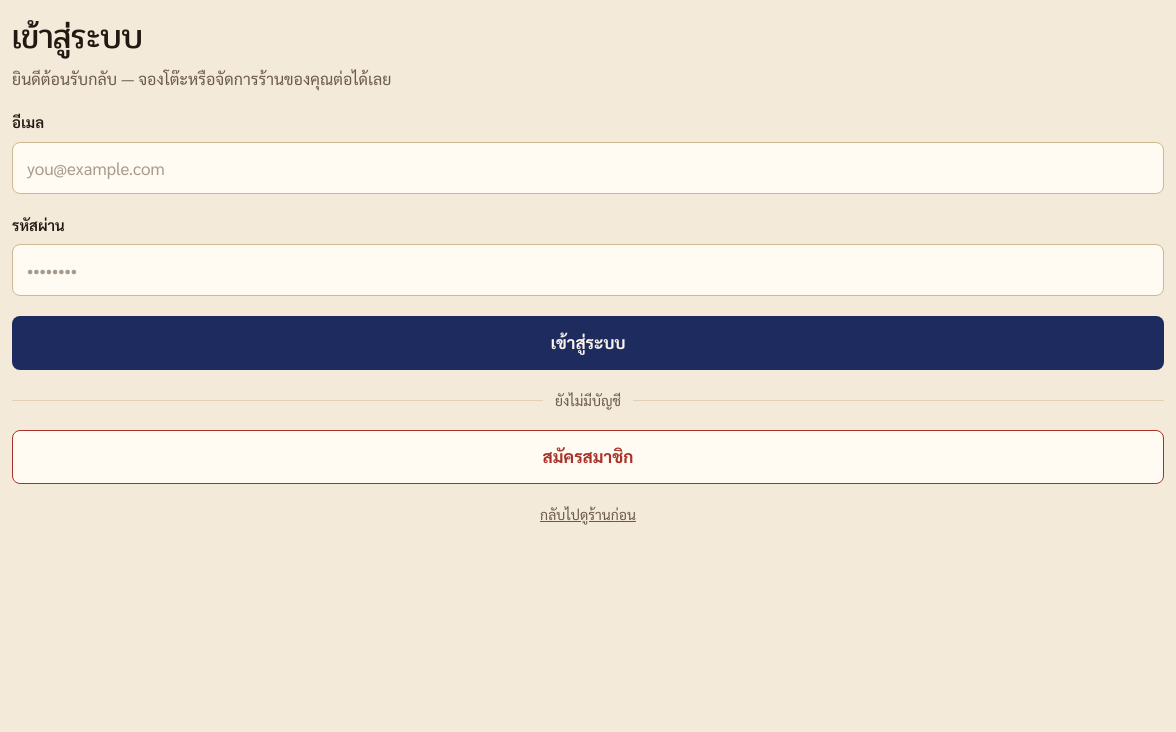
Test case: LoginForm › รหัสผิด → ข้อความรวม ไม่บอกว่าช่องไหนผิด
This screenshot has width=1176, height=732.
Step 1. Type "usr2@email.com" into the field labelled "อีเมล" → (588, 168), box [12,142,1164,194]
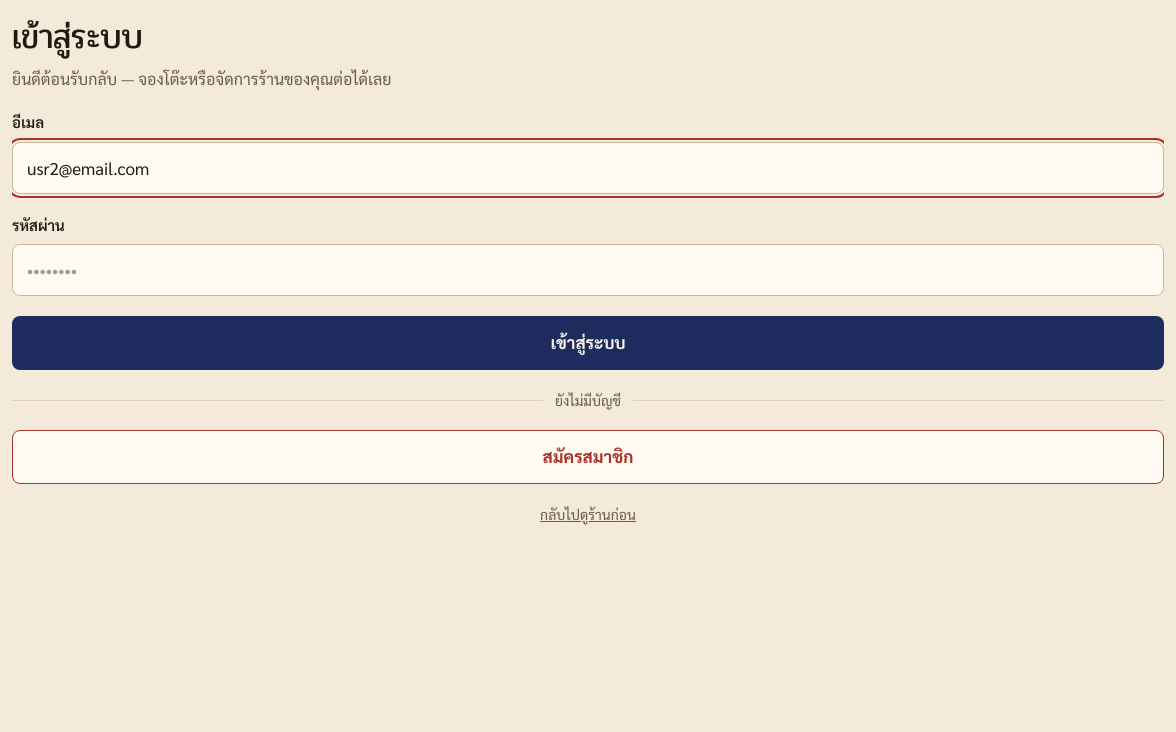
Step 2. Type "wrong" into the password field labelled "รหัสผ่าน" → (588, 270), box [12,244,1164,296]
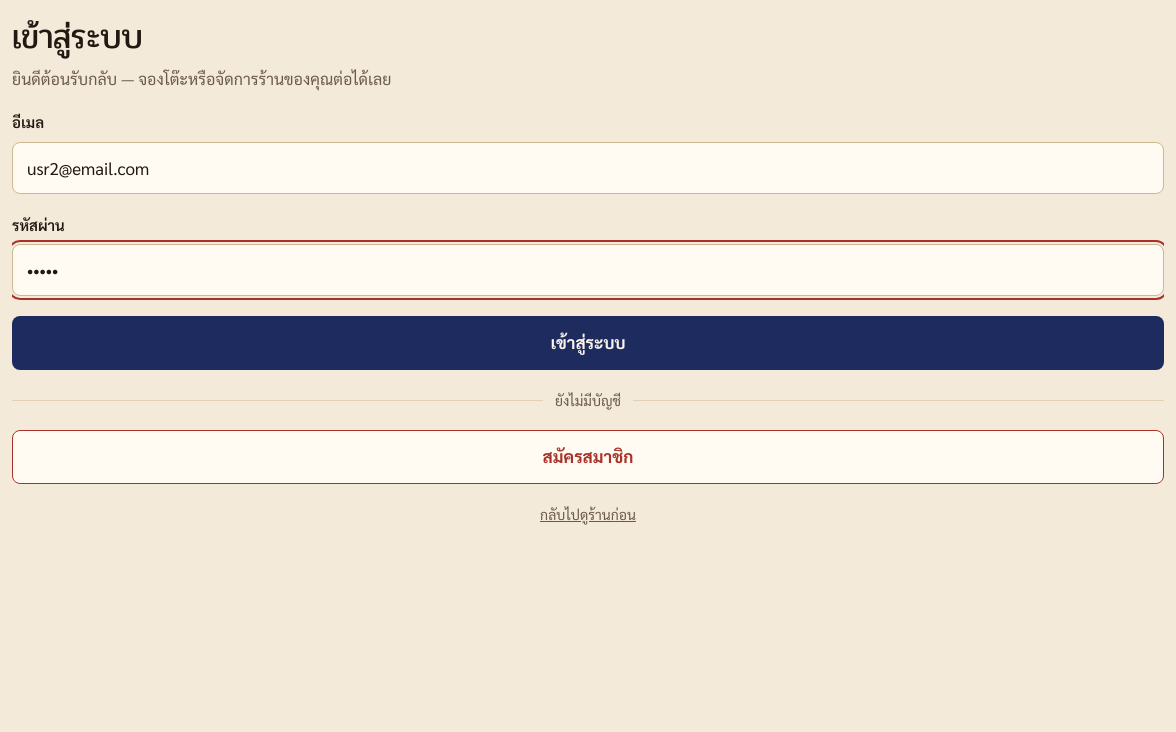
Step 3. Click the button "เข้าสู่ระบบ" → (588, 343), box [12,316,1164,370]
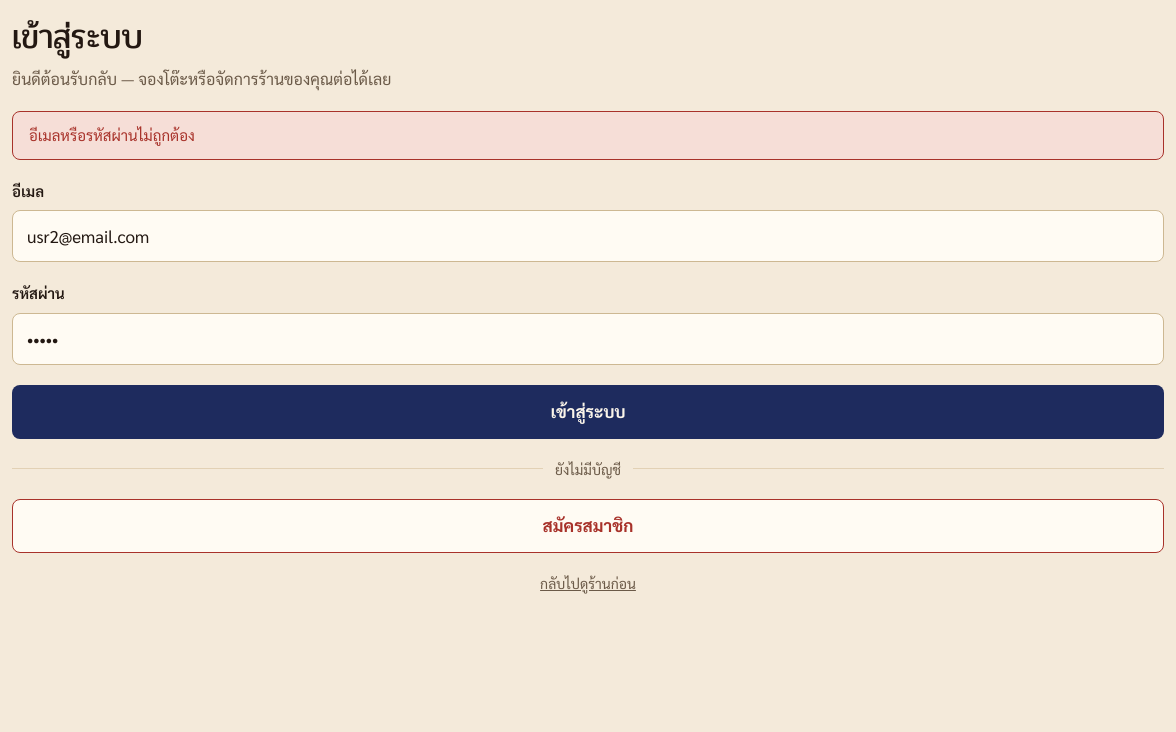
expect the text "อีเมลหรือรหัสผ่านไม่ถูกต้อง" is shown: met, box [12,111,1164,160]
